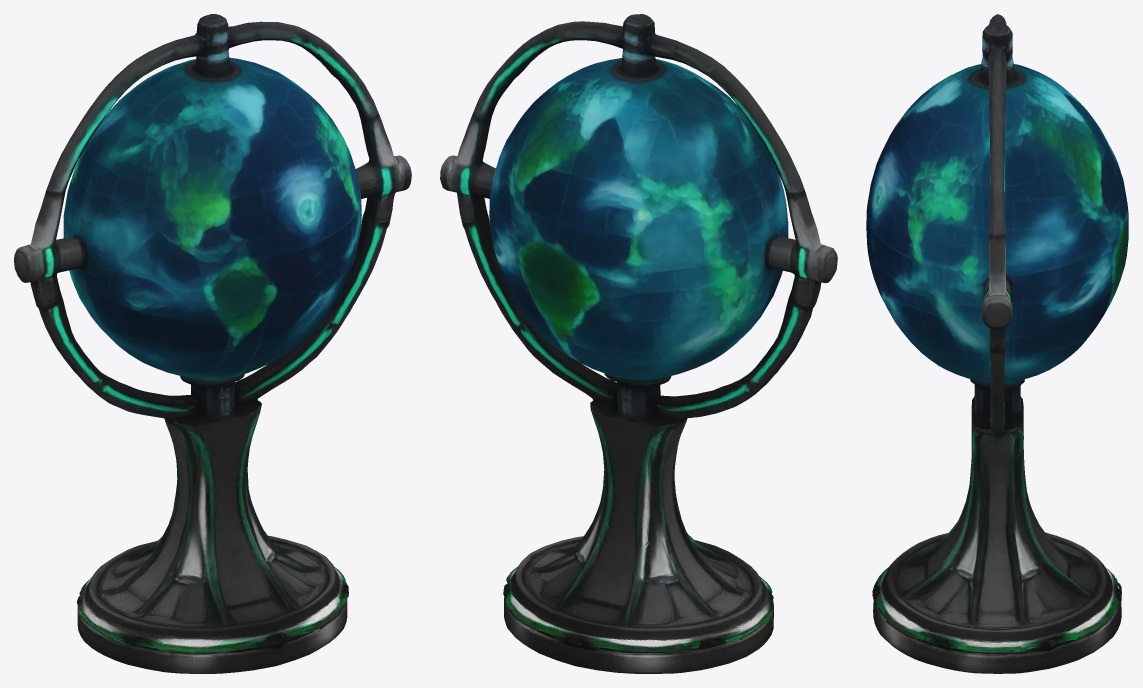
The model's file is m_weather.glb.
3 views of the same model, side by side, from view 1: azimuth 30°, elevation 25°; view 2: azimuth 150°, elevation 25°; view 3: azimuth 270°, elevation 25° (orthographic). The views are drawn at different scales.
Parts seen in each view (by area): view 1: geometry_0; view 2: geometry_0; view 3: geometry_0.
Part boxes in pixels (bbox=[...]): geometry_0: bbox=[14, 14, 411, 673]; geometry_0: bbox=[440, 14, 837, 673]; geometry_0: bbox=[866, 14, 1128, 673].
Bounding box in the file's own units: 0.6692 × 1 × 0.4036.
Materials: 1 (1 with a texture image).
